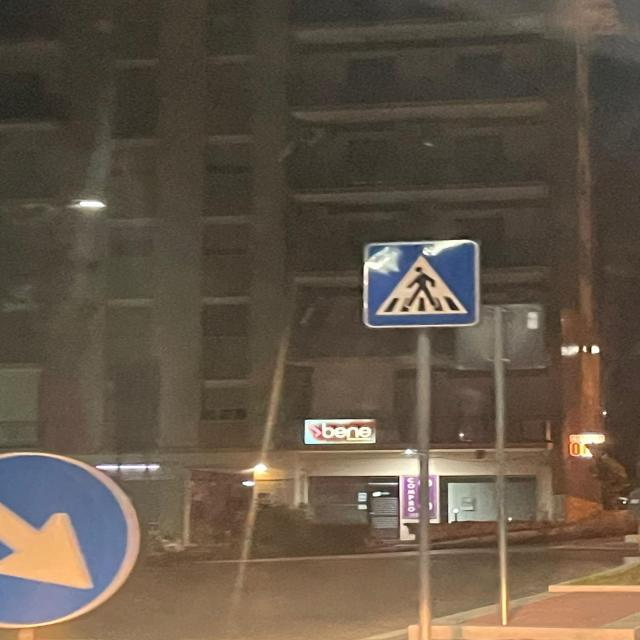info_crosswalk: (361, 237, 484, 329)
